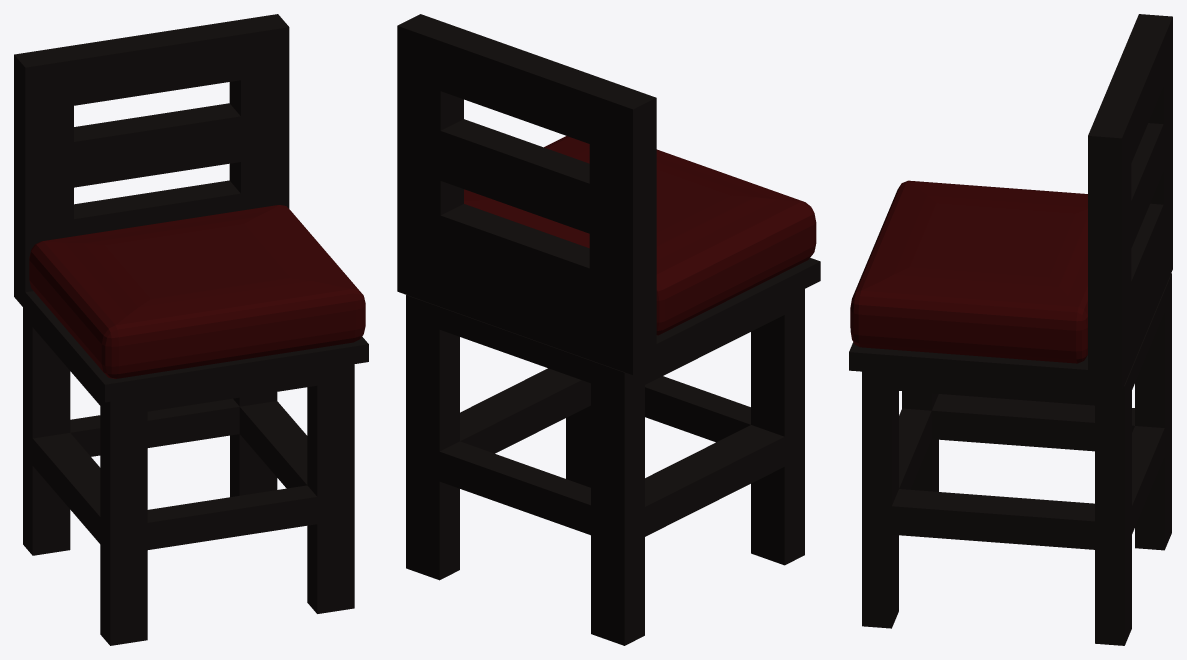
Rendered from Chair.obj.
3 views of the same model, side by side, from view 1: azimuth 30°, elevation 25°; view 2: azimuth 150°, elevation 25°; view 3: azimuth 270°, elevation 25° (orthographic). The views are drawn at different scales.
Visible parts, largest first — view 1: Stool.001_Plane.027_Moulding, Stool.001_Plane.027_Chairs; view 2: Stool.001_Plane.027_Moulding, Stool.001_Plane.027_Chairs; view 3: Stool.001_Plane.027_Moulding, Stool.001_Plane.027_Chairs.
Boxes of the visible parts, x1,y1,x2,y2 form: Stool.001_Plane.027_Moulding: (14,14,368,645); Stool.001_Plane.027_Chairs: (29,205,365,378); Stool.001_Plane.027_Moulding: (397,14,820,645); Stool.001_Plane.027_Chairs: (464,136,816,335); Stool.001_Plane.027_Moulding: (849,14,1172,645); Stool.001_Plane.027_Chairs: (850,180,1087,363).
Bounding box in the file's own units: 57.29 × 96.21 × 55.13.
